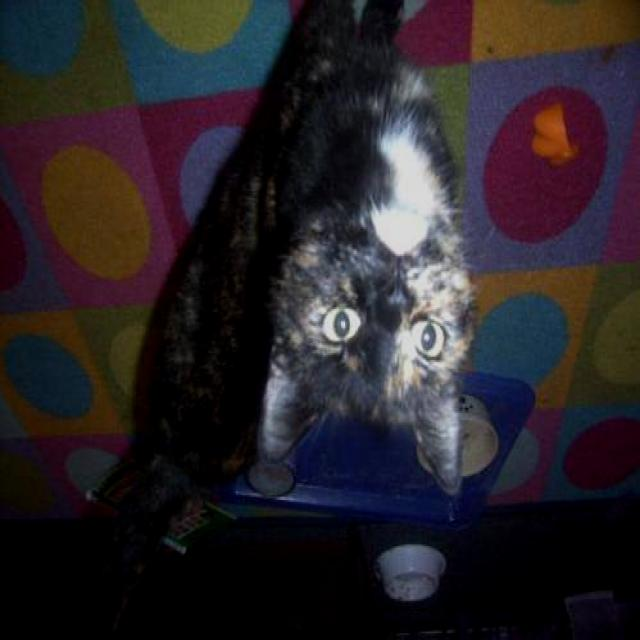Kucing: (53, 0, 580, 633)
